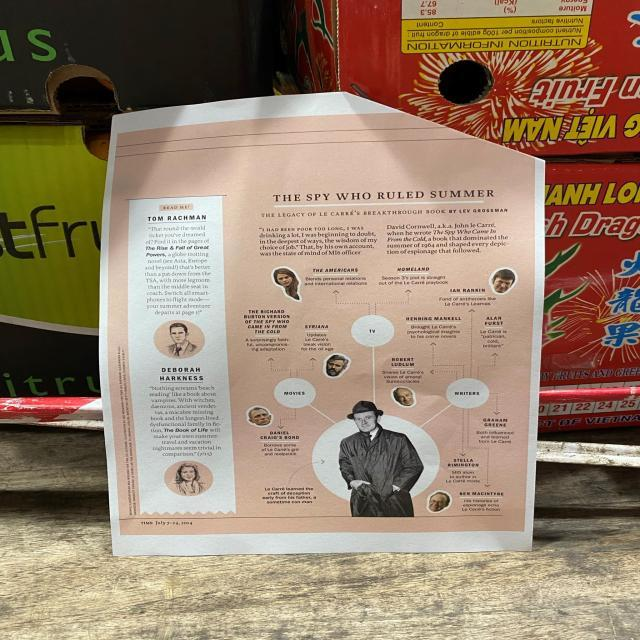document: (100, 92, 544, 555)
